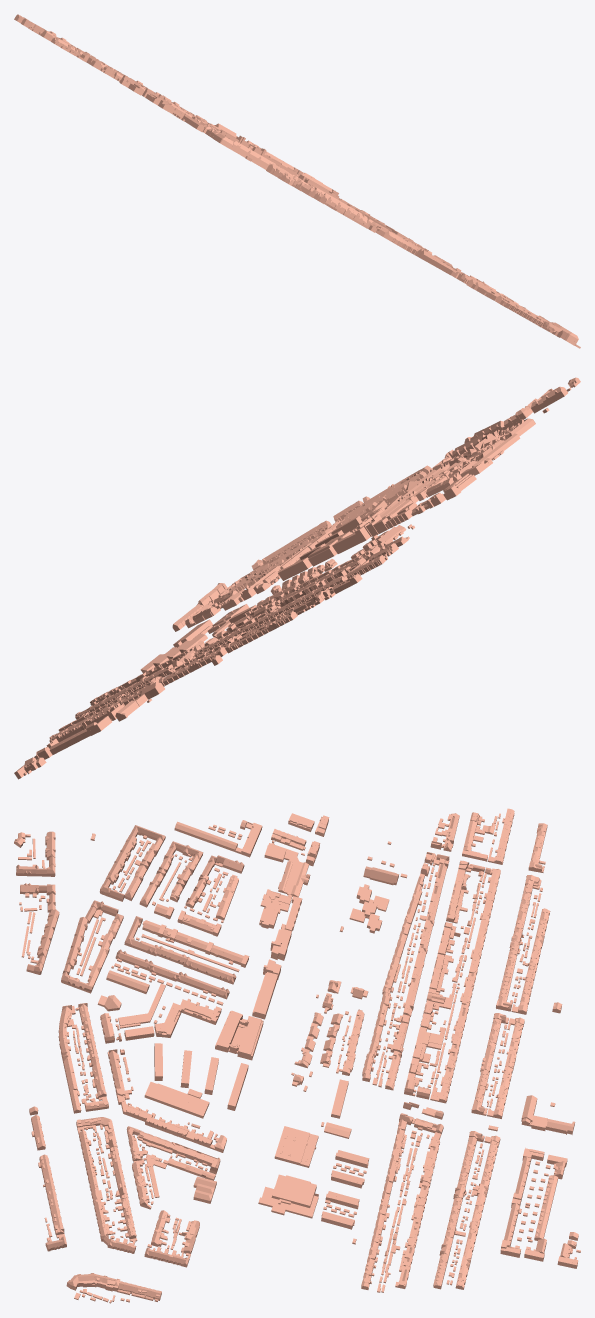
3 renders of one model, top to bottom at view 1: azimuth 30°, elevation 25°; view 2: azimuth 150°, elevation 25°; view 3: azimuth 270°, elevation 25°, orthographic. The views are drawn at different scales.
Bounding box in the file's own units: 521 × 381 × 642.
